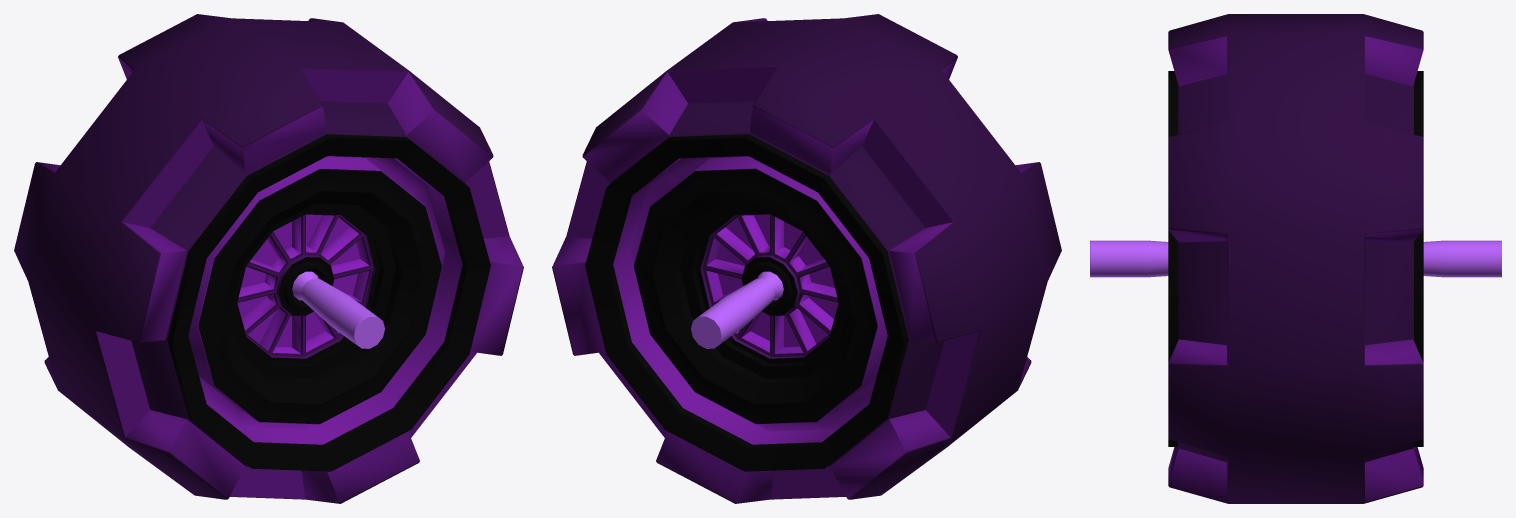
The model's file is mitaVegasBBO_wheel.fbx.
The picture shows the model from 3 angles, left to right: view 1: azimuth 30°, elevation 25°; view 2: azimuth 150°, elevation 25°; view 3: azimuth 270°, elevation 25°; orthographic projection. The views are drawn at different scales.
Parts seen in each view (by area): view 1: wheel; view 2: wheel; view 3: wheel.
Part boxes in pixels (x1,y1,x2,y2): wheel: (14, 14, 523, 503); wheel: (552, 14, 1061, 503); wheel: (1090, 14, 1501, 503).
Size of the model in its own units: 39.22 by 39.22 by 32.9.
